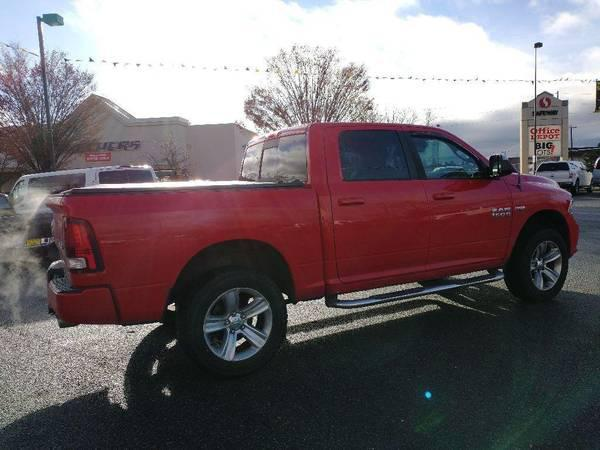Front_Fender: (506, 171, 579, 254)
Front_Right_Door: (422, 177, 514, 278)
Front_Right_Window: (400, 127, 507, 180)
Rear_Bumper: (49, 266, 124, 325)
Rear_Fender: (64, 186, 326, 321)
Rear_Right_Door: (315, 182, 432, 295)
Rear_Right_Window: (310, 124, 422, 183)
Rear_Windshield: (239, 128, 309, 188)
Right_Taillight: (64, 215, 106, 274)
Wheel: (184, 262, 289, 366), (506, 226, 570, 296)
